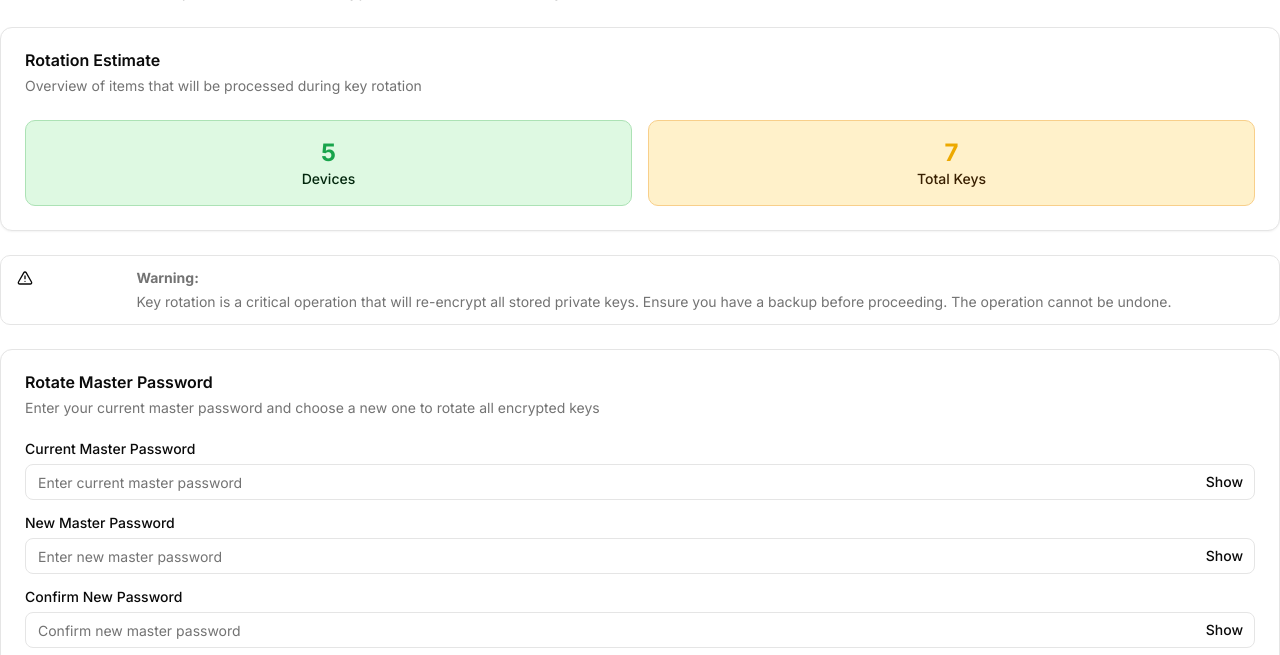
Test: KeyRotationPage › handles rotation with partial failures
Type "current_password" into the password field with placeholder "Enter current master password".
click(640, 482); type("current_password")  # box left=25, top=464, right=1255, bottom=500
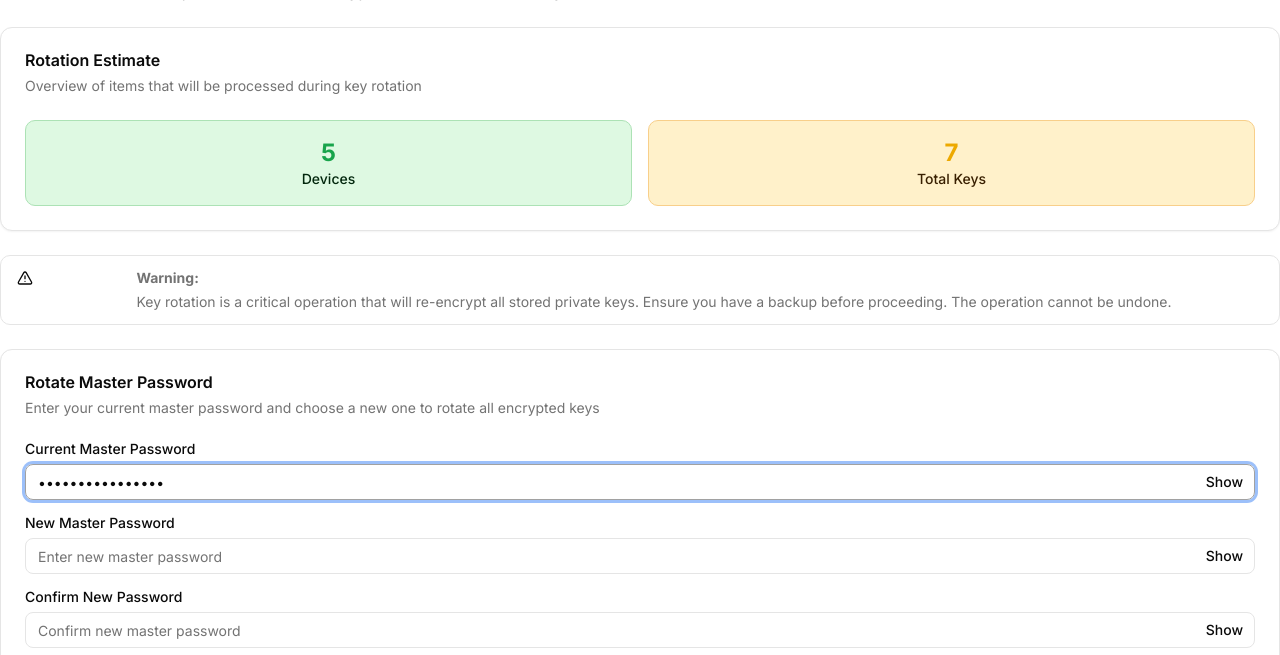
Type "new_password" into the password field with placeholder "Enter new master password".
click(640, 556); type("new_password")  # box left=25, top=538, right=1255, bottom=574
(page scrolled)
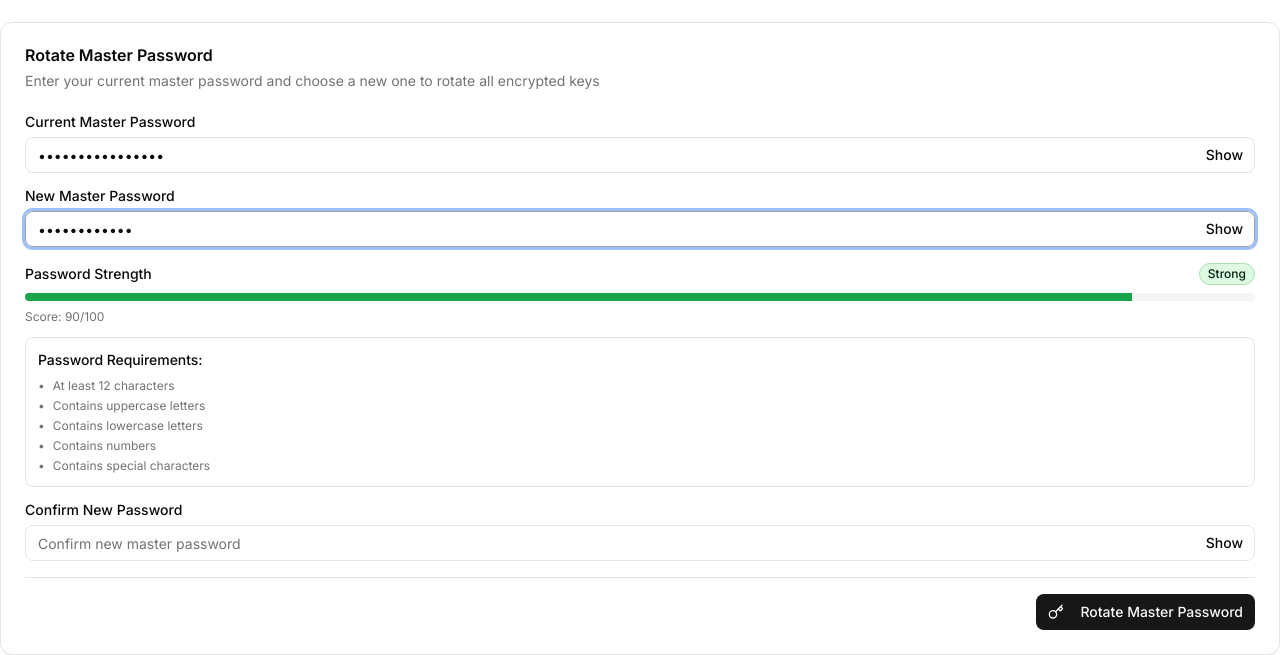
Type "new_password" into the password field with placeholder "Confirm new master password".
click(640, 543); type("new_password")  # box left=25, top=525, right=1255, bottom=561
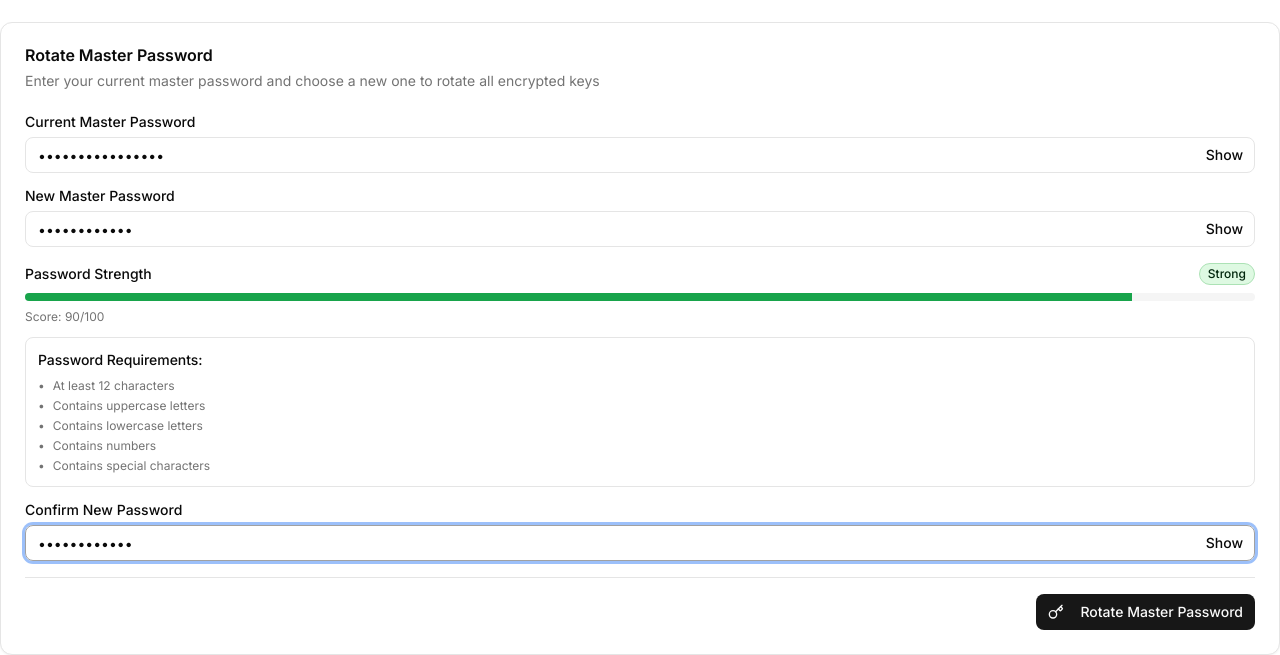
Now the button "Rotate Master Password" is enabled
Click the button "Rotate Master Password".
click(1146, 612)  # box left=1036, top=594, right=1255, bottom=630
(page scrolled)
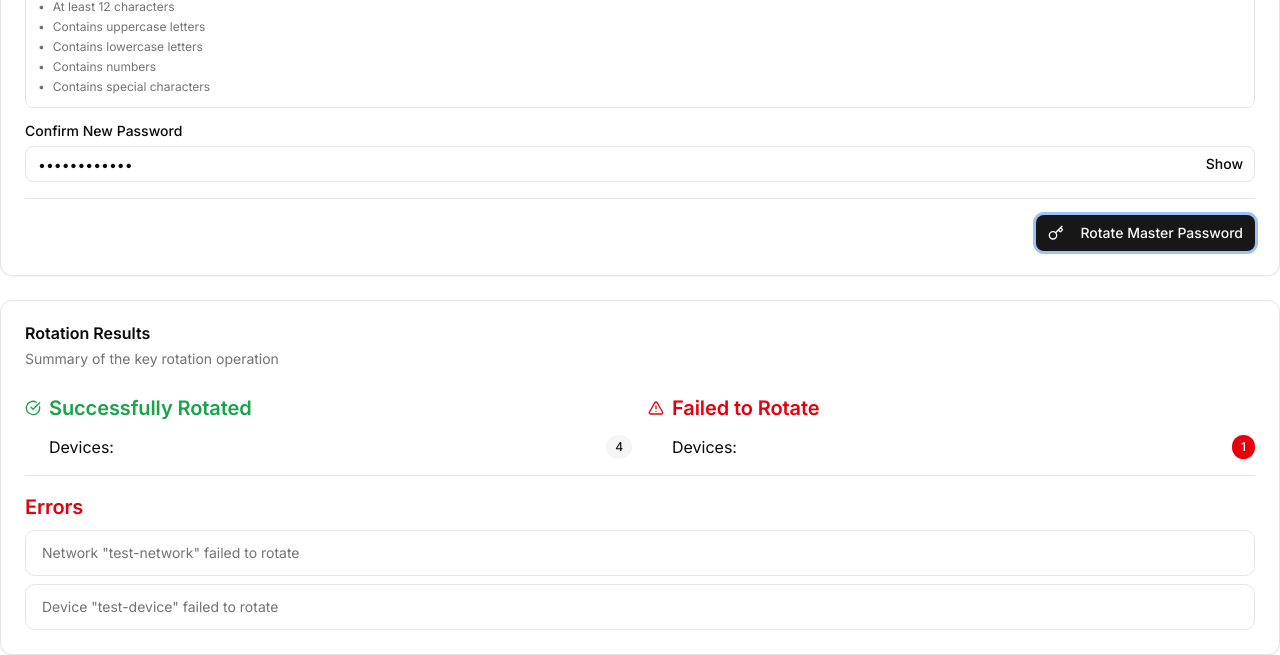
Now the heading "Failed to Rotate" is shown, box left=648, top=396, right=820, bottom=420
Now the heading "Errors" is shown, box left=25, top=495, right=83, bottom=519
Now the text "Device \"test-device\" failed to rotate" is shown, box left=42, top=598, right=278, bottom=615
